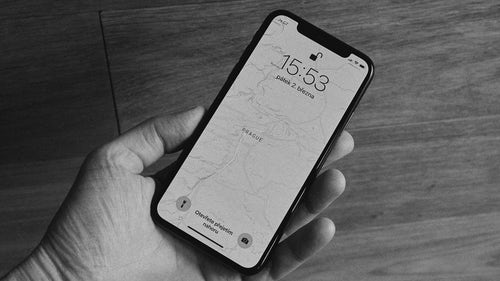phone: (152, 11, 374, 276)
